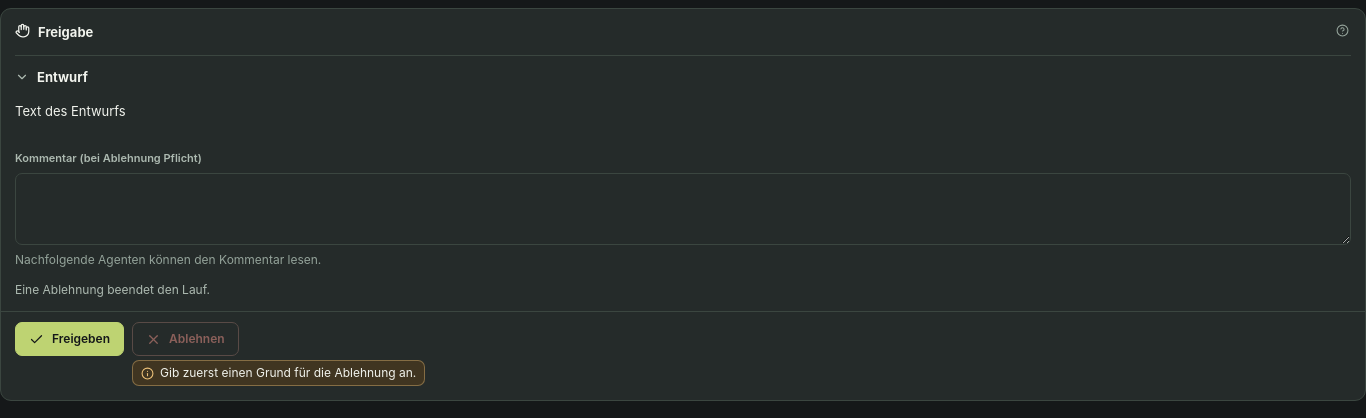
Scenario: ApprovalForm › says next to the reject button that a reason is needed first (TX-10)
This screenshot has width=1366, height=418.
Expected: the element with test id "disabled-reason" reads "Gib zuerst einen Grund für die Ablehnung an.", [160,365,416,380]
Type "Zahlen fehlen" into the text box.
click(683, 209); type("Zahlen fehlen")  # box [15,173,1351,245]
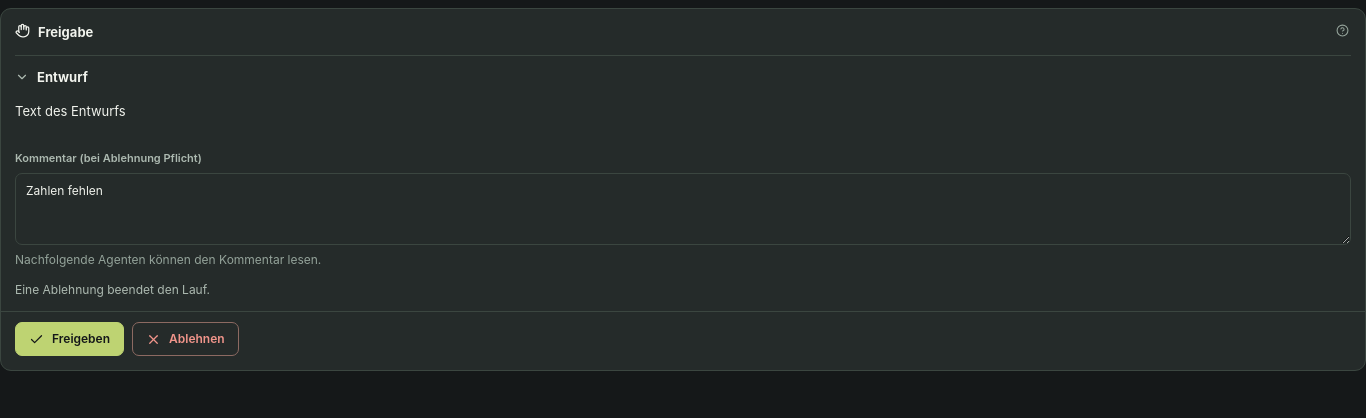
Expected: the element with test id "disabled-reason" is gone
